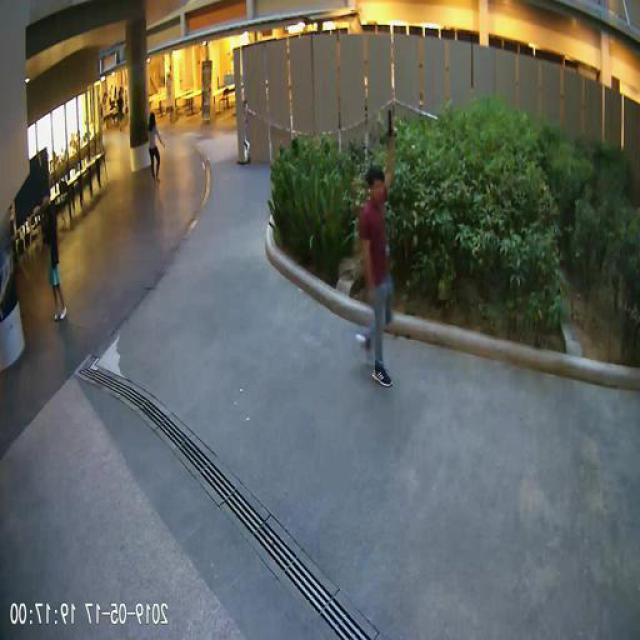Gun: (389, 106, 400, 136)
